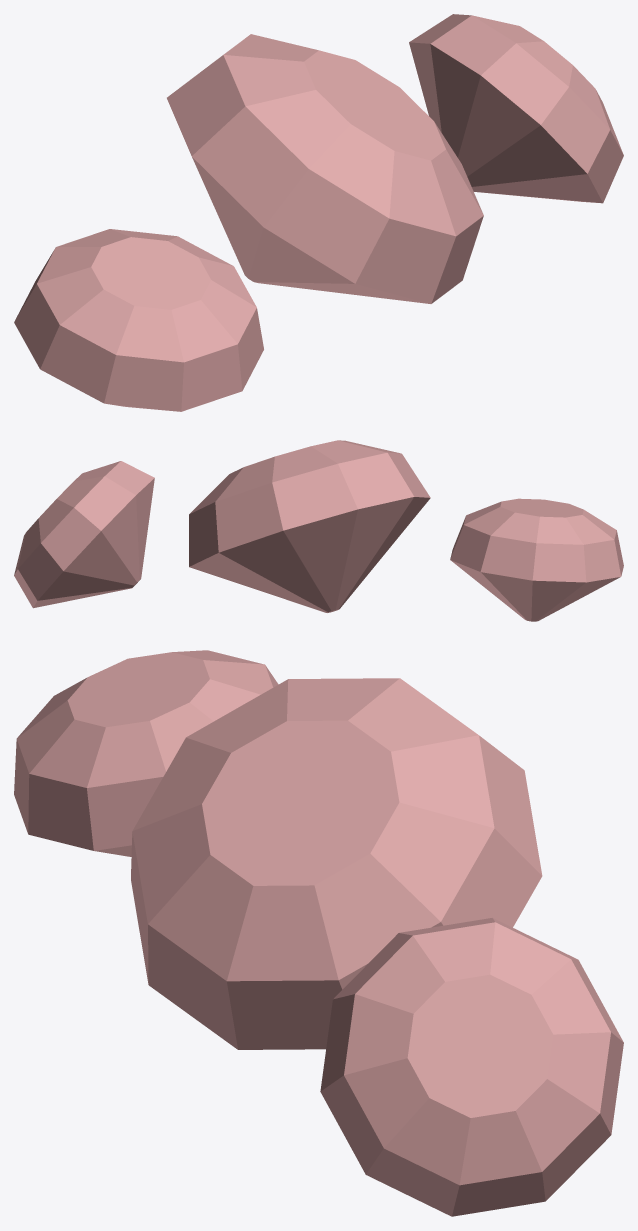
3 views of the same model, one above another, from view 1: azimuth 30°, elevation 25°; view 2: azimuth 150°, elevation 25°; view 3: azimuth 270°, elevation 25° (orthographic). The views are drawn at different scales.
Visible parts, largest first — view 1: TI028 / individually faceted stone 1, TI028 / individually faceted stone 0, TI028 / individually faceted stone 2; view 2: TI028 / individually faceted stone 1, TI028 / individually faceted stone 0, TI028 / individually faceted stone 2; view 3: TI028 / individually faceted stone 1, TI028 / individually faceted stone 2, TI028 / individually faceted stone 0.
Boxes of the visible parts, box(x1,y1,x2,y2) form: TI028 / individually faceted stone 1: box(167, 34, 483, 303); TI028 / individually faceted stone 0: box(14, 229, 263, 411); TI028 / individually faceted stone 2: box(409, 14, 623, 203); TI028 / individually faceted stone 1: box(189, 440, 430, 612); TI028 / individually faceted stone 0: box(450, 498, 623, 621); TI028 / individually faceted stone 2: box(14, 461, 154, 608); TI028 / individually faceted stone 1: box(131, 678, 542, 1049); TI028 / individually faceted stone 2: box(320, 918, 623, 1216); TI028 / individually faceted stone 0: box(14, 650, 278, 856).
Bounding box in the file's own units: 2.54 × 0.8889 × 1.57.
